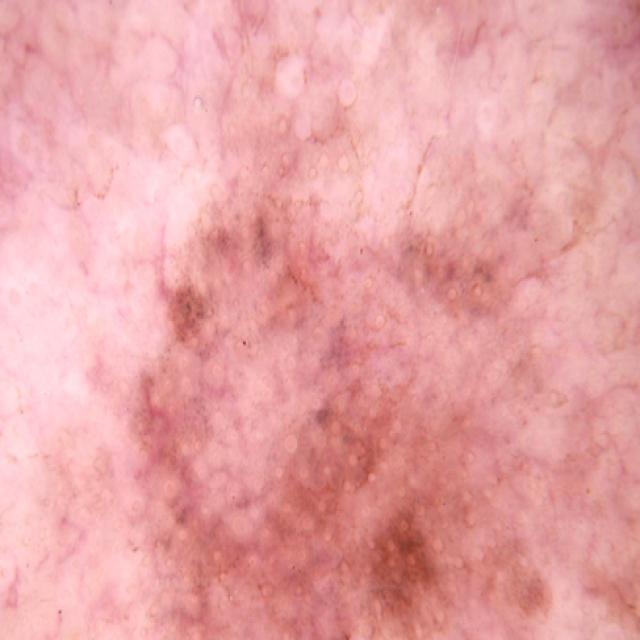Keratosis: (172, 256, 443, 640)
